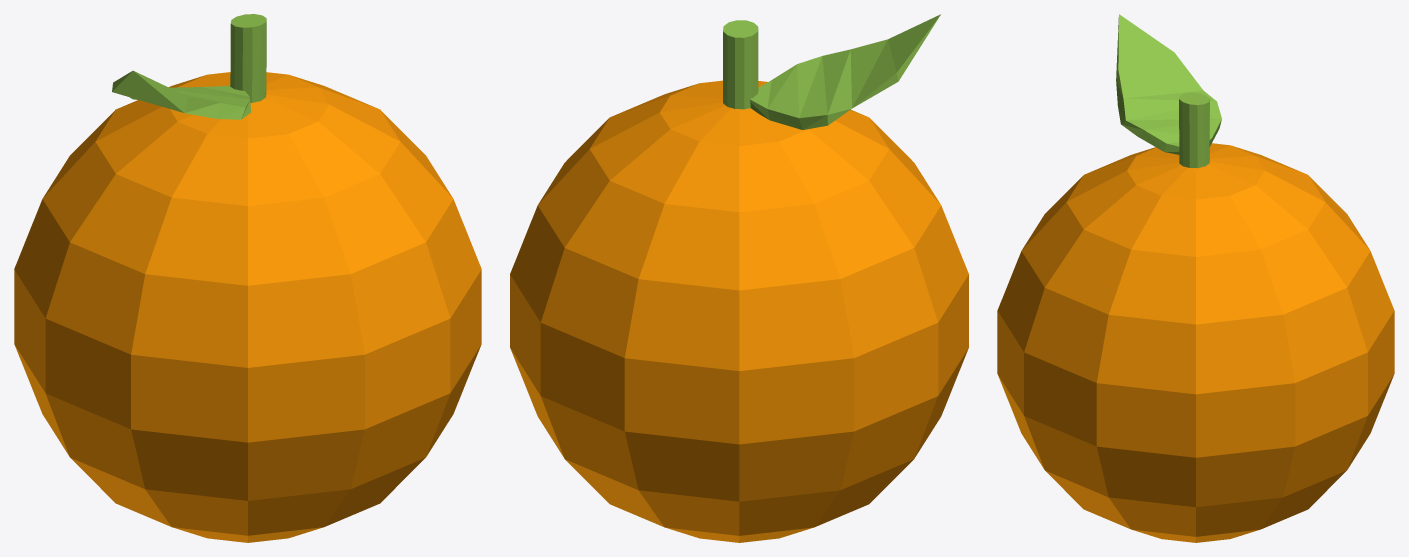
File: model-triangulated.obj
3 views of the same model, side by side, from view 1: azimuth 30°, elevation 25°; view 2: azimuth 150°, elevation 25°; view 3: azimuth 270°, elevation 25° (orthographic). The views are drawn at different scales.
Visible parts, largest first — view 1: group879198542, group1203776062, group589766384; view 2: group879198542, group1203776062, group589766384; view 3: group879198542, group1203776062, group589766384.
Boxes of the visible parts, x1,y1,x2,y2 form: group879198542: (14, 72, 481, 542); group1203776062: (112, 70, 250, 119); group589766384: (230, 14, 266, 102); group879198542: (510, 80, 968, 542); group1203776062: (749, 14, 940, 129); group589766384: (723, 20, 758, 109); group879198542: (997, 143, 1394, 542); group1203776062: (1116, 14, 1221, 154); group589766384: (1179, 92, 1209, 168).
Size of the model in its own units: 0.1379 by 0.1703 by 0.1379.
